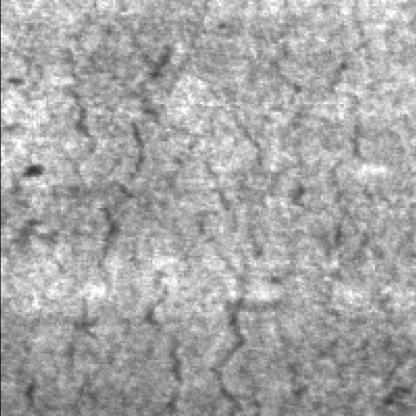crazing: (206, 29, 410, 412), (52, 0, 183, 412)
